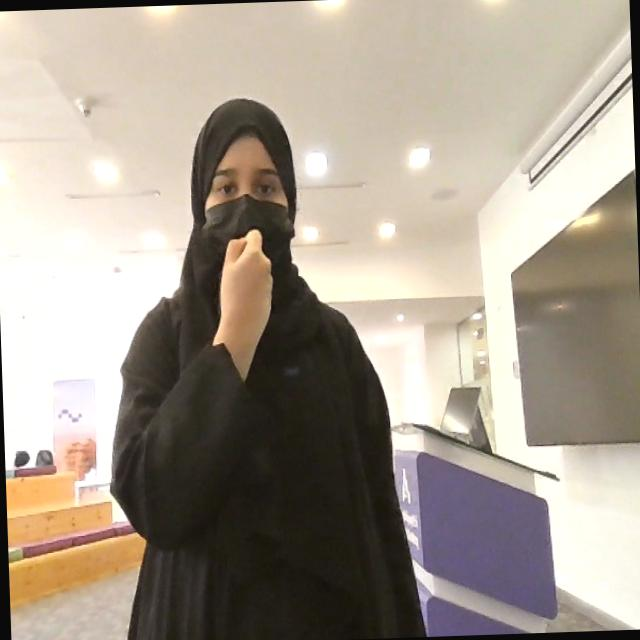medicine: (204, 222, 288, 383)
